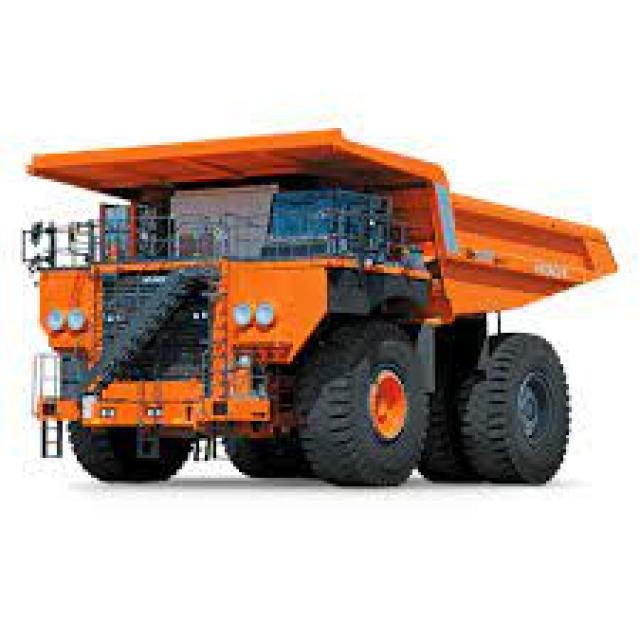dump_truck: (22, 127, 618, 484)
